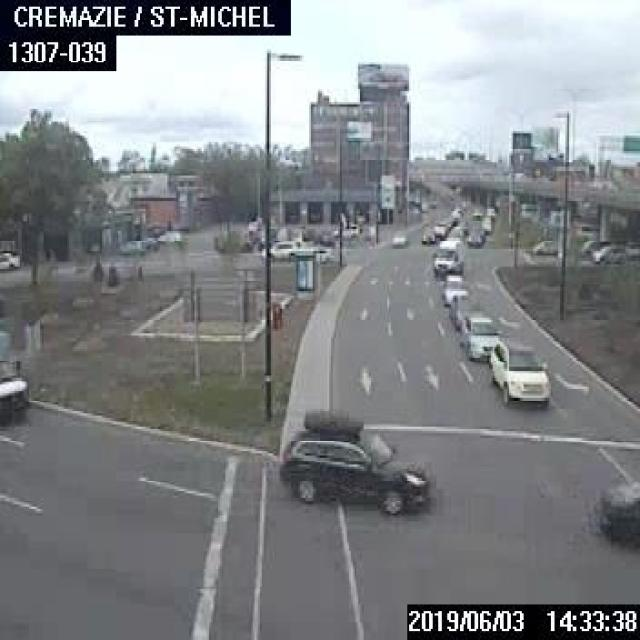vehicle: (278, 407, 428, 516), (487, 338, 552, 407), (591, 473, 638, 542), (0, 347, 29, 418), (460, 314, 500, 359), (432, 234, 462, 276), (448, 294, 482, 328), (259, 238, 307, 260), (440, 272, 468, 306), (589, 243, 627, 262), (531, 238, 560, 254), (117, 237, 143, 254), (309, 245, 333, 263), (332, 222, 360, 237), (466, 226, 484, 247), (0, 249, 20, 267), (156, 228, 180, 242), (389, 229, 406, 246), (433, 220, 449, 236), (420, 227, 434, 245), (142, 235, 158, 250), (480, 214, 493, 232), (484, 206, 494, 216)
